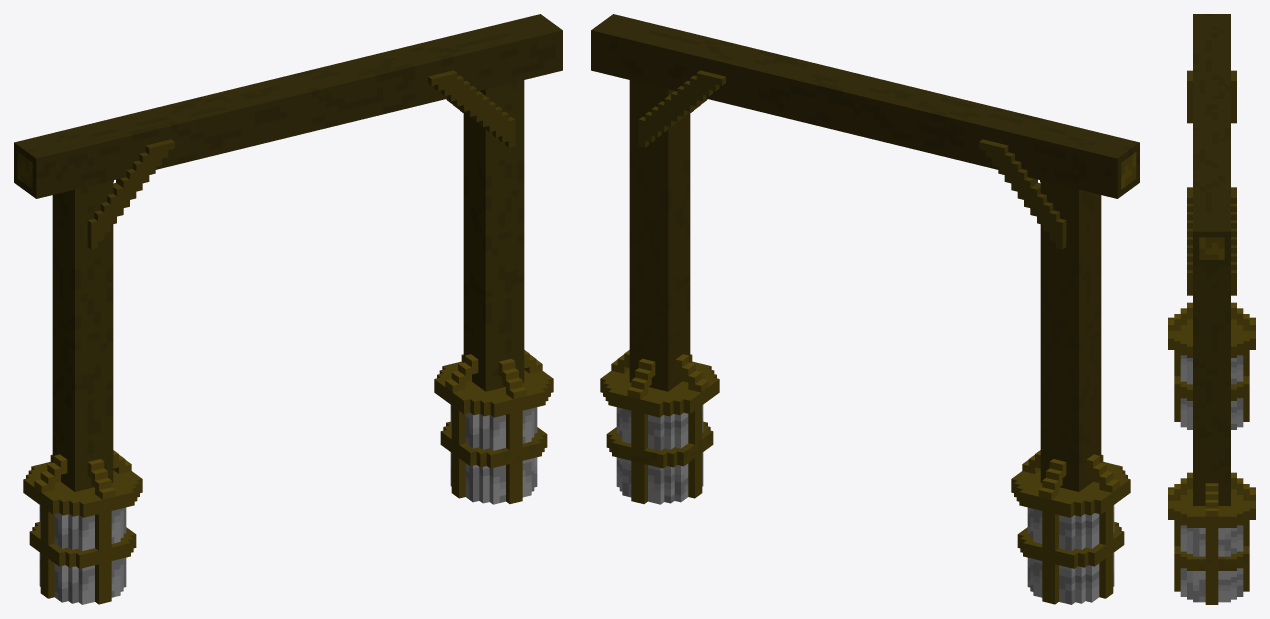
Rendered from Arch1.obj.
3 renders of one model, left to right at view 1: azimuth 30°, elevation 25°; view 2: azimuth 150°, elevation 25°; view 3: azimuth 270°, elevation 25°, orthographic. The views are drawn at different scales.
Bounding box in the file's own units: 8.2 × 6.7 × 1.4.
1 material, 1 textured.
